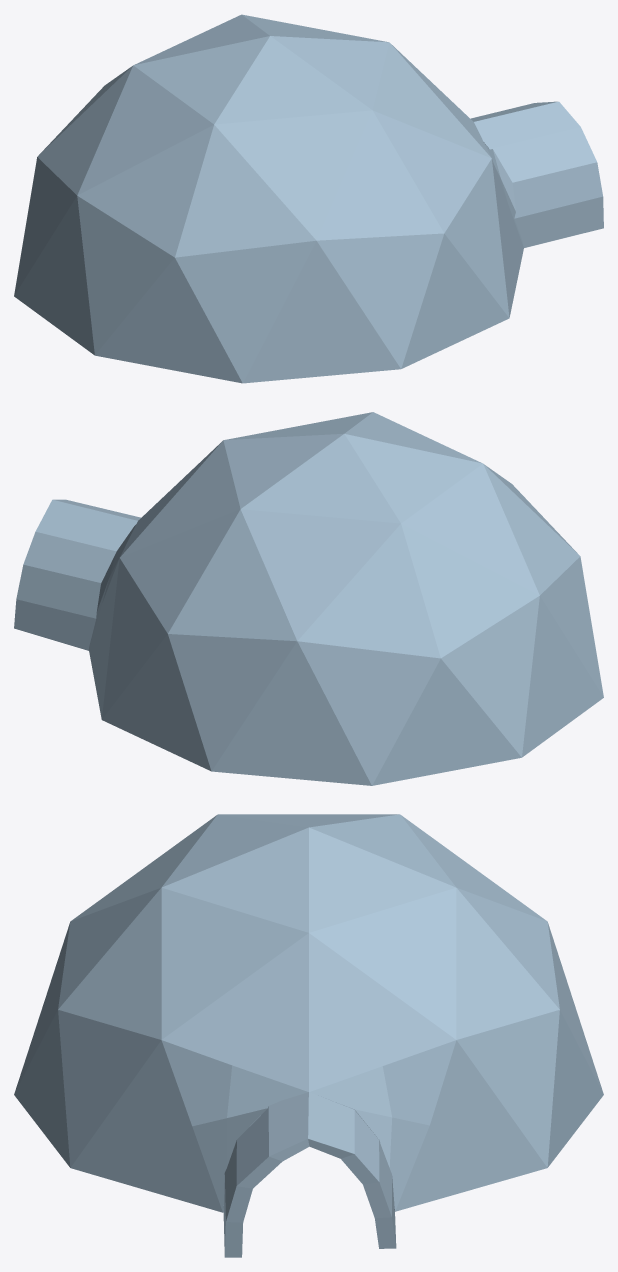
The model's file is igloo.fbx.
3 renders of one model, top to bottom at view 1: azimuth 30°, elevation 25°; view 2: azimuth 150°, elevation 25°; view 3: azimuth 270°, elevation 25°, orthographic. The views are drawn at different scales.
Parts seen in each view (by area): view 1: Icosphere, Cube; view 2: Icosphere, Cube; view 3: Icosphere, Cube.
Boxes of the visible parts, x1,y1,x2,y2 form: Icosphere: (14,14,523,383); Cube: (470,101,603,247); Icosphere: (88,412,603,785); Cube: (14,499,140,650); Icosphere: (14,814,603,1212); Cube: (223,1092,396,1257).
Bounding box in the file's own units: 226 × 101 × 200.
